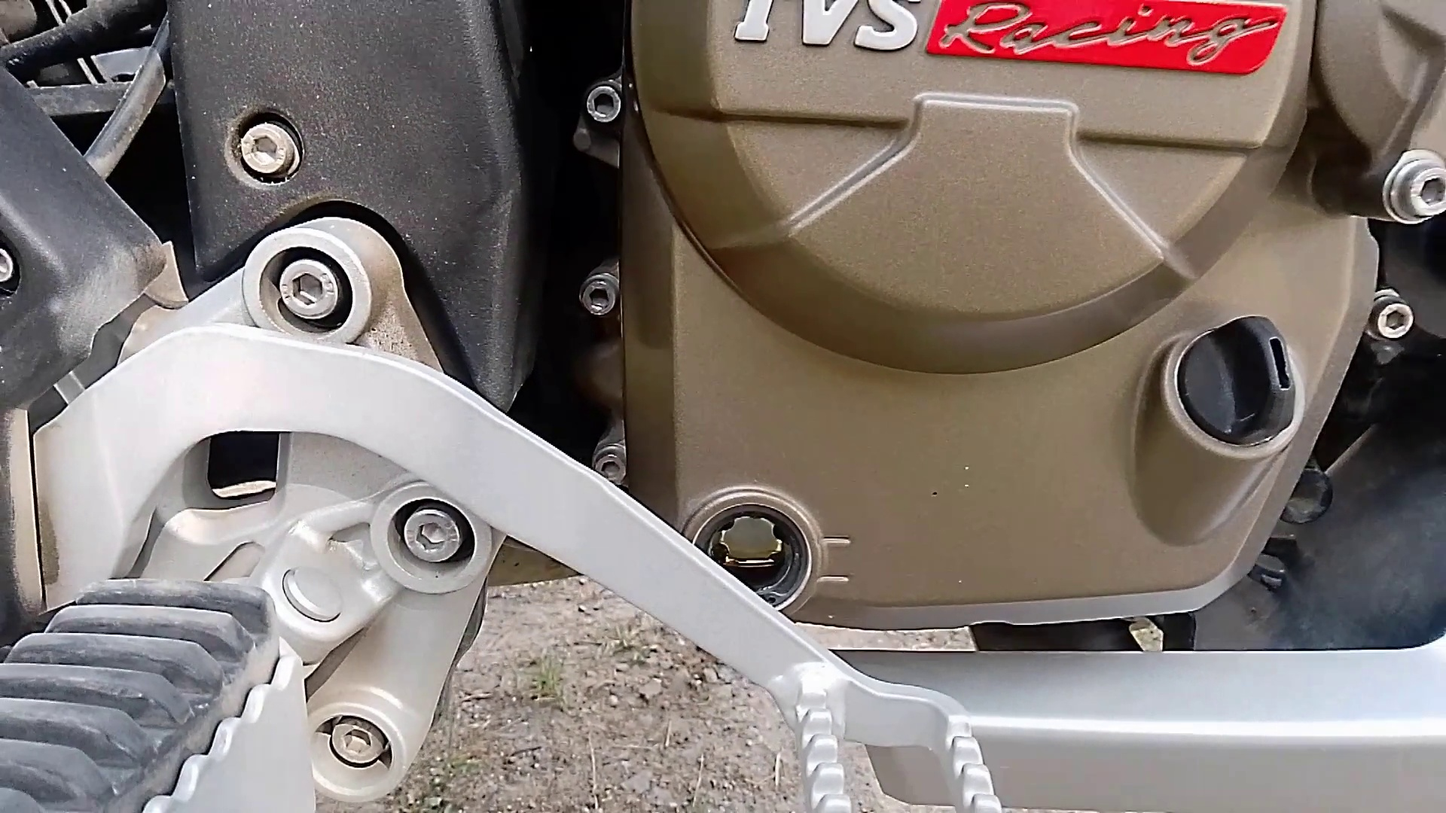bike-engine: (617, 2, 1445, 626)
bike-engine-level: (674, 483, 833, 613)
bike-oil-cap: (1136, 301, 1316, 529)
